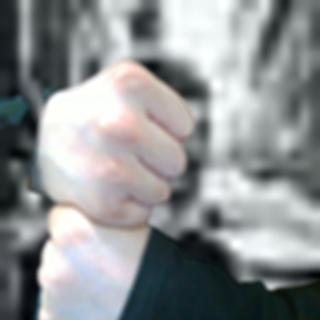CAREFUL: (26, 55, 203, 320)
